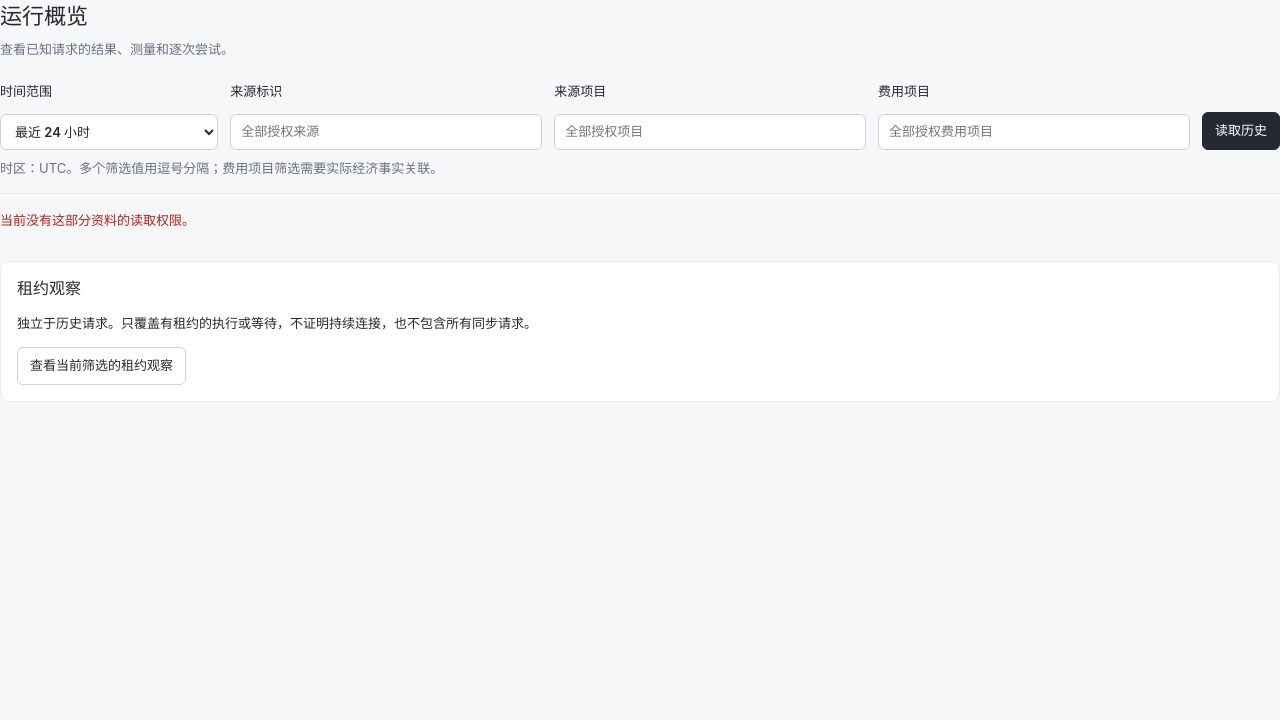
Test: does not revive a lease whose response arrived after its server deadline
Click the button "查看当前筛选的租约观察": (102, 366) left=17, top=347, right=186, bottom=384
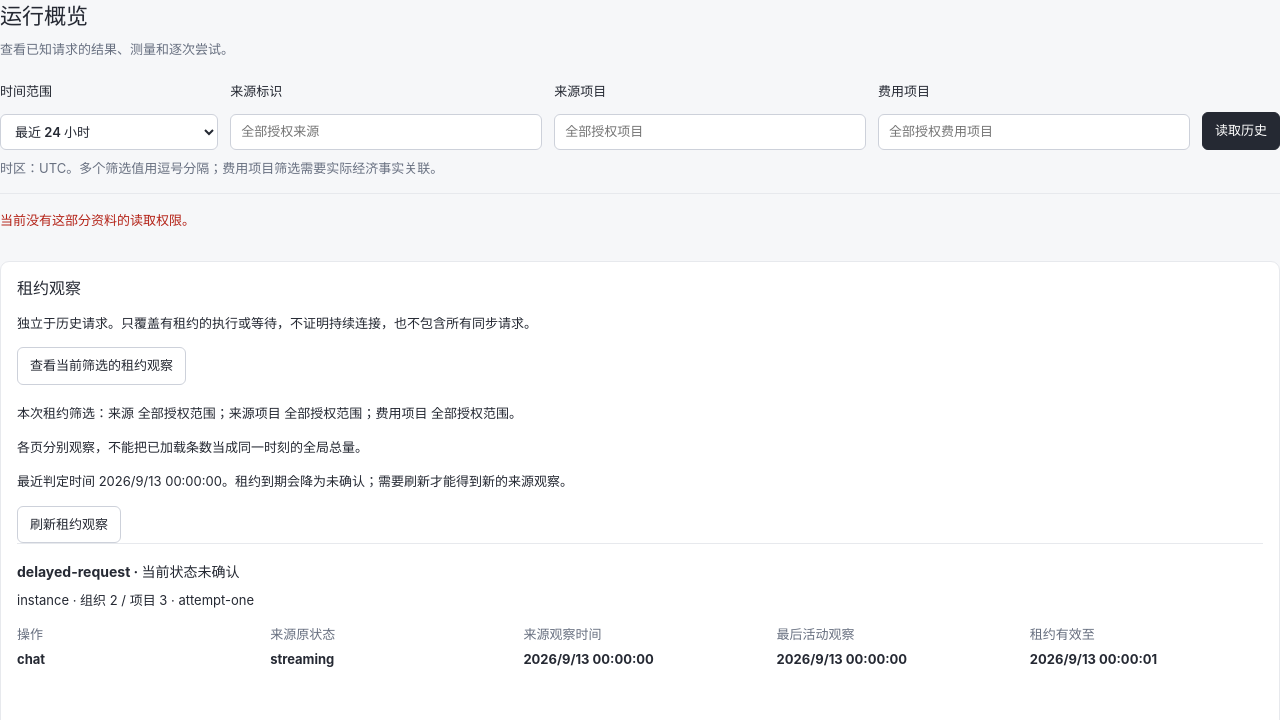
Now the heading "delayed-request · 当前状态未确认" is shown, box left=17, top=563, right=240, bottom=580
